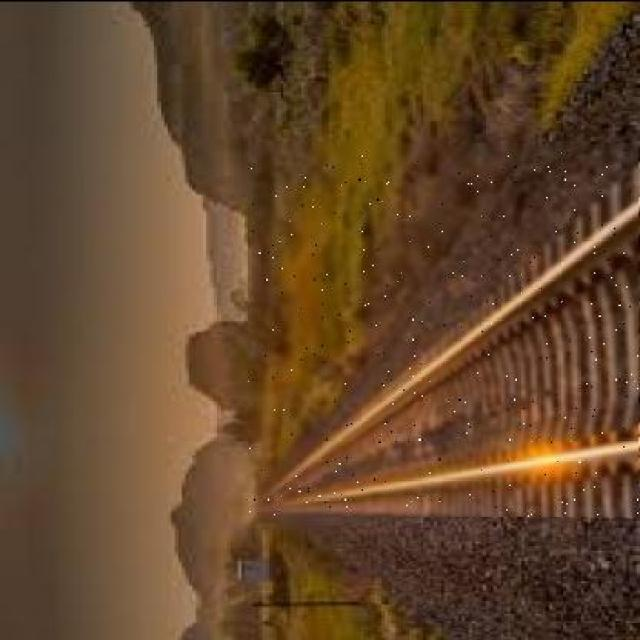rail: (248, 145, 638, 514)
